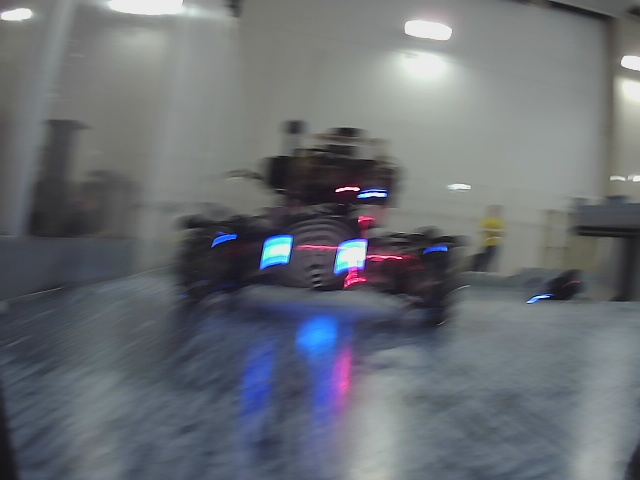lamp: (337, 241, 368, 270), (261, 238, 290, 266)
pair: (262, 238, 366, 272)
